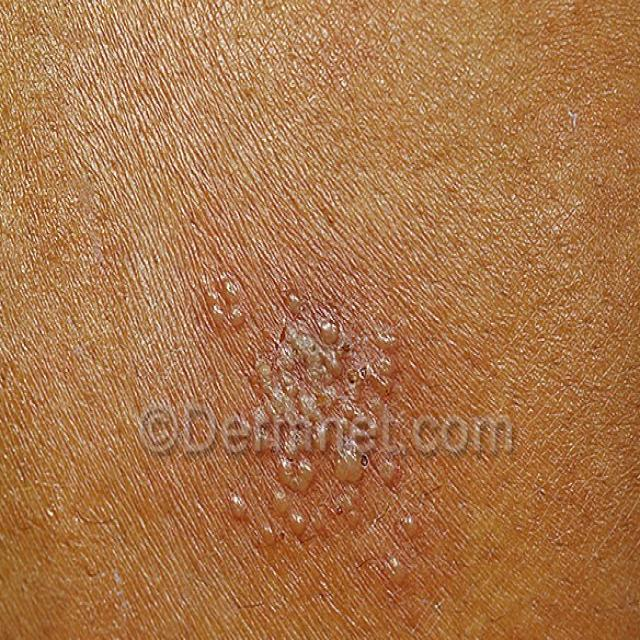Viral Infections: (196, 273, 437, 579)
